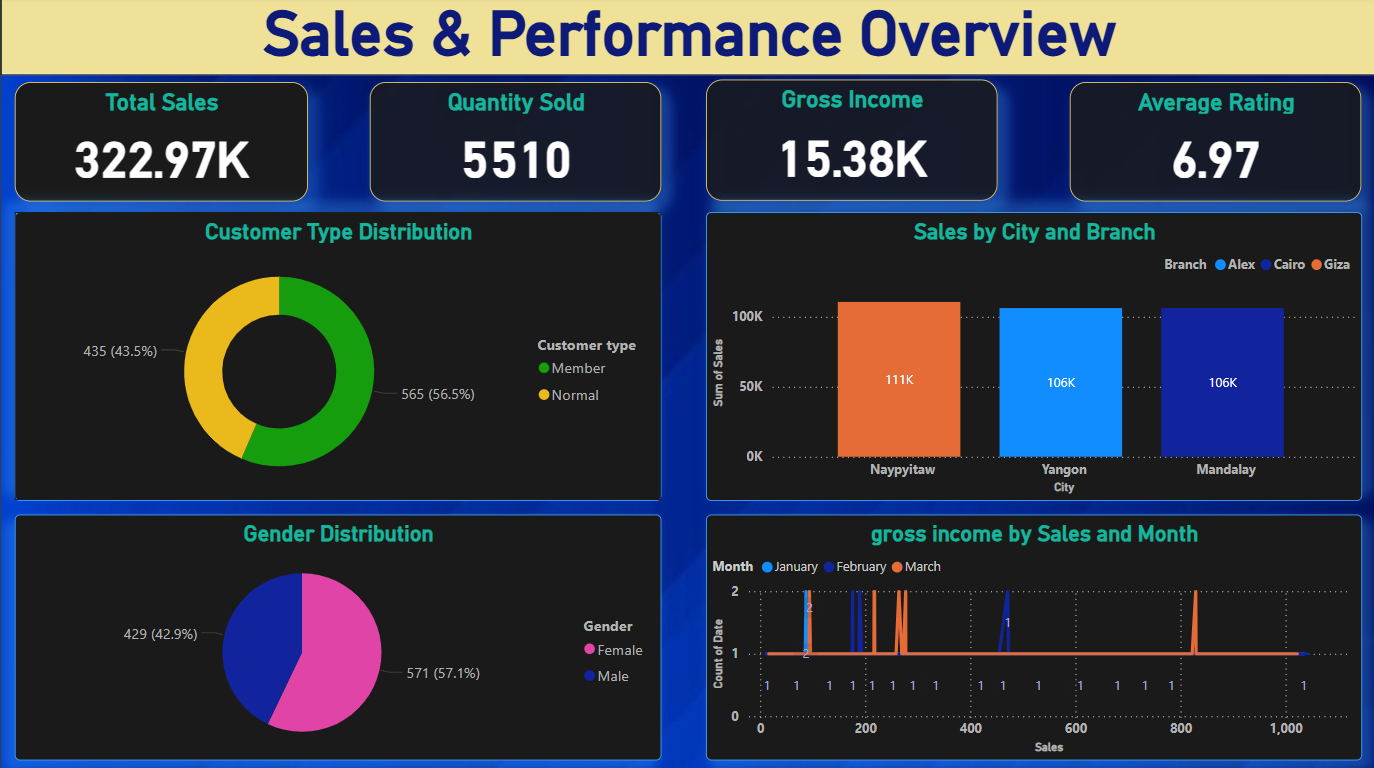

Layout of this report page (visuals, bound fields, positions):
{"tool":"powerbi","page":{"name":"Sales & Performance Overview ","canvas":[1280,720],"ordinal":0},"visuals":[{"type":"card","title":"Total Sales","fields":{"Values":["Sum(SuperMarket Sales Data Cleaned.Sales)"]},"box":[12.5,78.8,272.5,111.2],"z":0},{"type":"card","title":"Quantity Sold","fields":{"Values":["Sum(SuperMarket Sales Data Cleaned.Quantity)"]},"box":[342.9,78.6,271.4,111.4],"z":1000},{"type":"card","title":"Gross Income","fields":{"Values":["Sum(SuperMarket Sales Data Cleaned.gross income)"]},"box":[655.7,77.1,271.4,112.9],"z":2000},{"type":"stackedAreaChart","title":"gross income by Sales and Month","fields":{"Category":["SuperMarket Sales Data Cleaned.Sales"],"Y":["CountNonNull(SuperMarket Sales Data Cleaned.Date)"],"Series":["SuperMarket Sales Data Cleaned.Date.Variation.Date Hierarchy.Month"]},"box":[655.7,481.4,610,228.6],"z":3000},{"type":"textbox","title":"Sales & Performance Overview","box":[0,0,1280,72.5],"z":4000},{"type":"card","title":"Average Rating","fields":{"Values":["Avg(SuperMarket Sales Data Cleaned.Rating)"]},"box":[994.3,78.6,271.4,111.4],"z":5000},{"type":"columnChart","title":"Sales by City and Branch","fields":{"Y":["Sum(SuperMarket Sales Data Cleaned.Sales)"],"Category":["SuperMarket Sales Data Cleaned.City"],"Series":["SuperMarket Sales Data Cleaned.Branch"]},"box":[655.7,200,610,268.6],"z":6000},{"type":"donutChart","title":"Customer Type Distribution","fields":{"Category":["SuperMarket Sales Data Cleaned.Customer type"],"Y":["CountNonNull(SuperMarket Sales Data Cleaned.Customer type)"]},"box":[12.9,200,601.4,268.6],"z":7000},{"type":"pieChart","title":"Gender Distribution","fields":{"Category":["SuperMarket Sales Data Cleaned.Gender"],"Y":["CountNonNull(SuperMarket Sales Data Cleaned.Gender)"]},"box":[12.5,481.2,601.2,228.8],"z":8000}]}

Visuals, with their boxes in screenshot pixels (x1, y1, x2, y2), scaled from the page's 1280x720 canvas onto the 1374x768 screenshot:
"Total Sales" card: 13/84/306/203
"Quantity Sold" card: 368/84/659/203
"Gross Income" card: 704/82/995/203
"gross income by Sales and Month" stackedAreaChart: 704/513/1359/757
"Sales & Performance Overview" textbox: 0/0/1373/77
"Average Rating" card: 1067/84/1359/203
"Sales by City and Branch" columnChart: 704/213/1359/500
"Customer Type Distribution" donutChart: 14/213/659/500
"Gender Distribution" pieChart: 13/513/659/757
